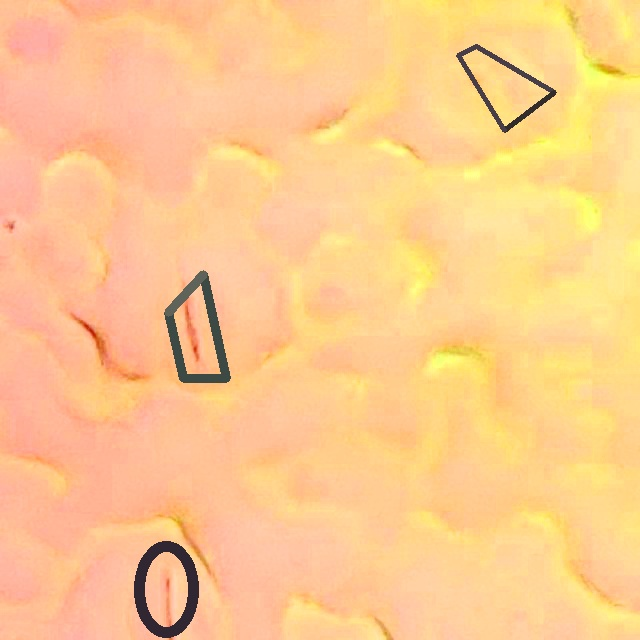close: (456, 44, 556, 131), (165, 270, 229, 381), (133, 541, 199, 637)
